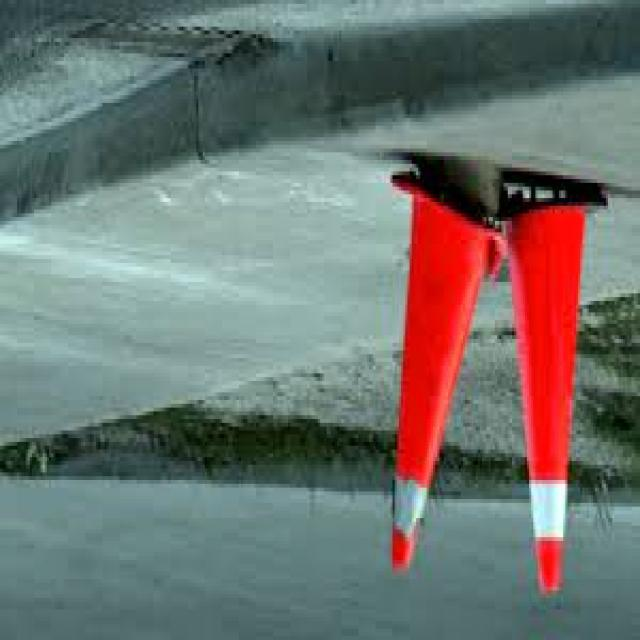cone: (498, 174, 618, 610), (388, 174, 480, 583)
